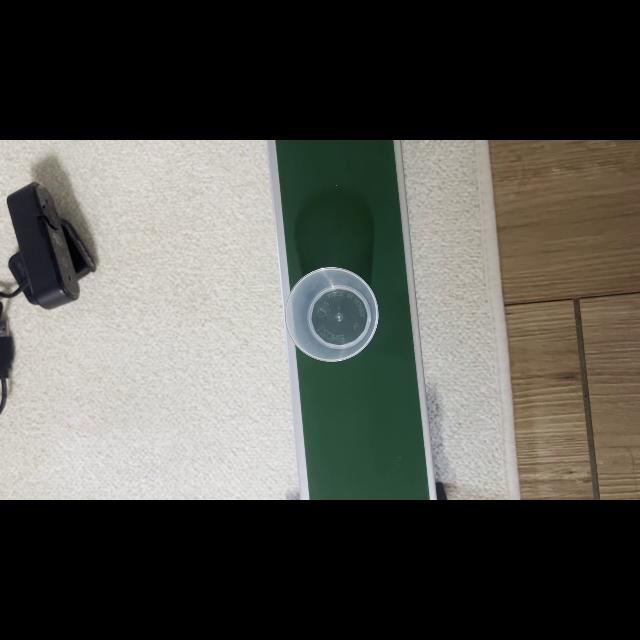clean: (287, 272, 379, 358)
